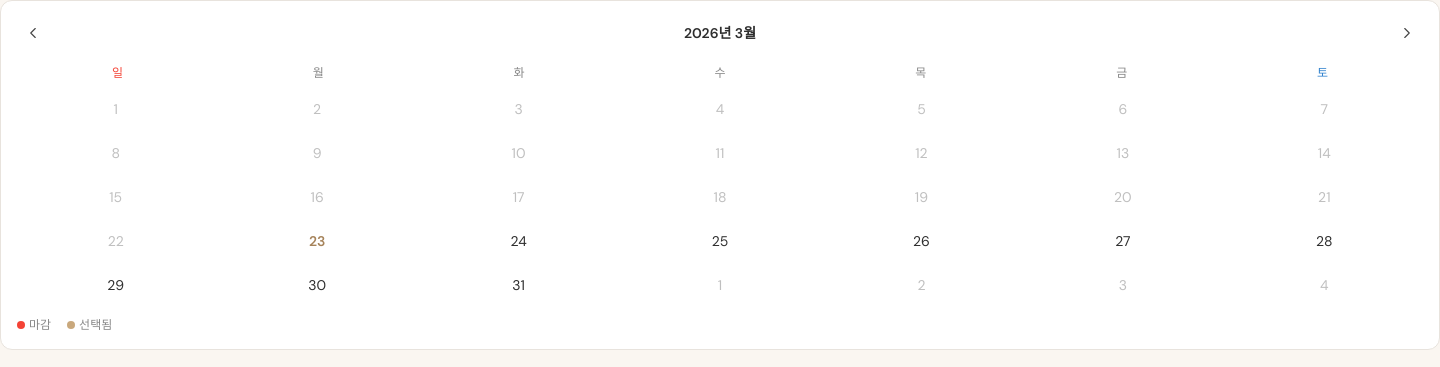
Test: ReservationCalendar › 이전 달 / 다음 달 네비게이션이 동작한다
Click the button named "다음 달" at (1407, 33), box [1391,17,1423,49]
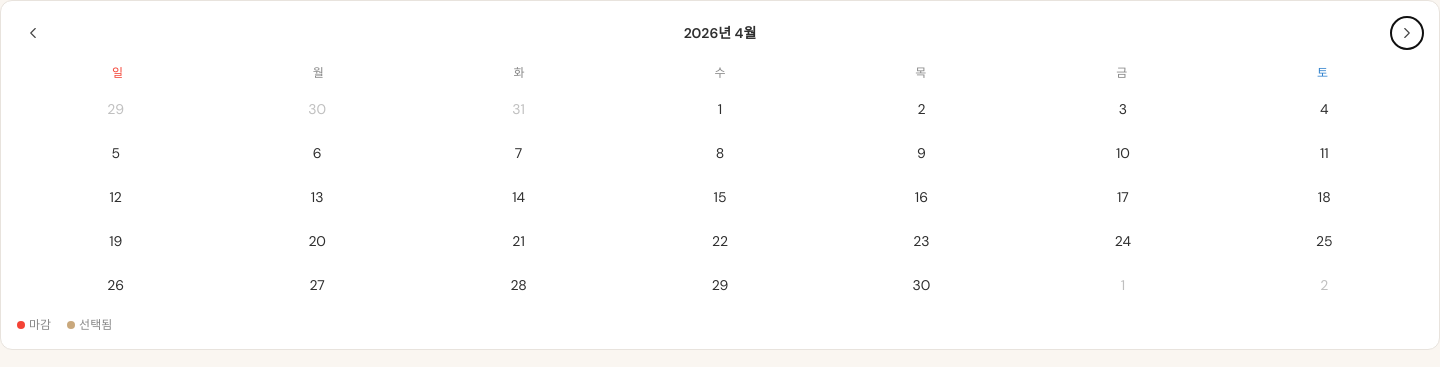
Expected: the heading "2026년 4월" is shown, [684,23,756,43]
// 이전 달 (두번 클릭해서 2월로)
Click the button named "이전 달" at (33, 33), box [17,17,49,49]
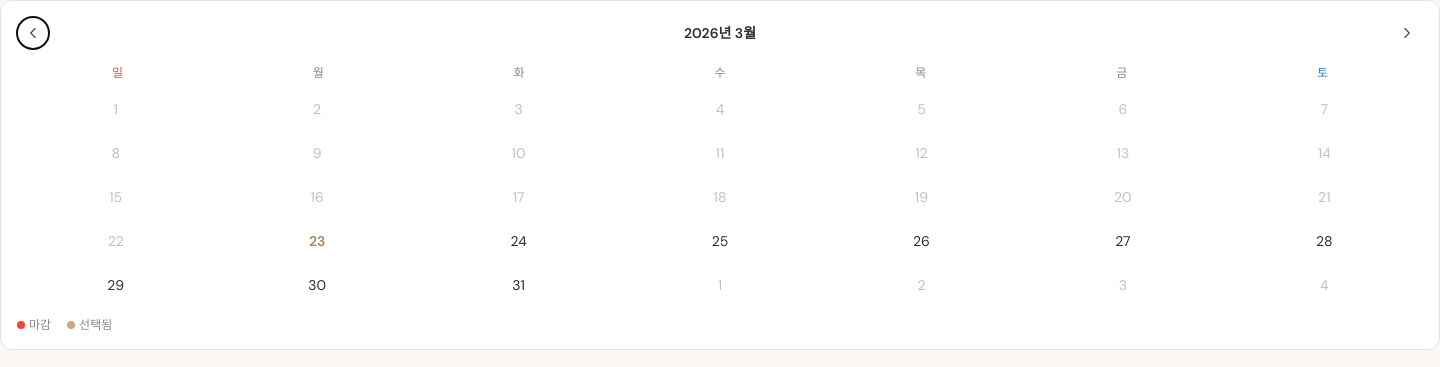
Click the button named "이전 달" at (33, 33), box [17,17,49,49]
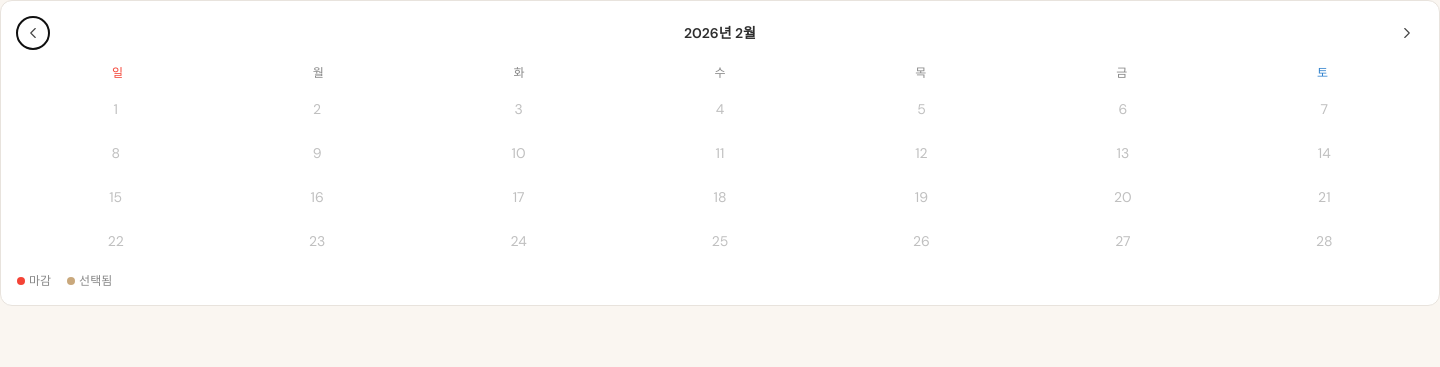
Expected: the heading "2026년 2월" is shown, [684,23,756,43]
